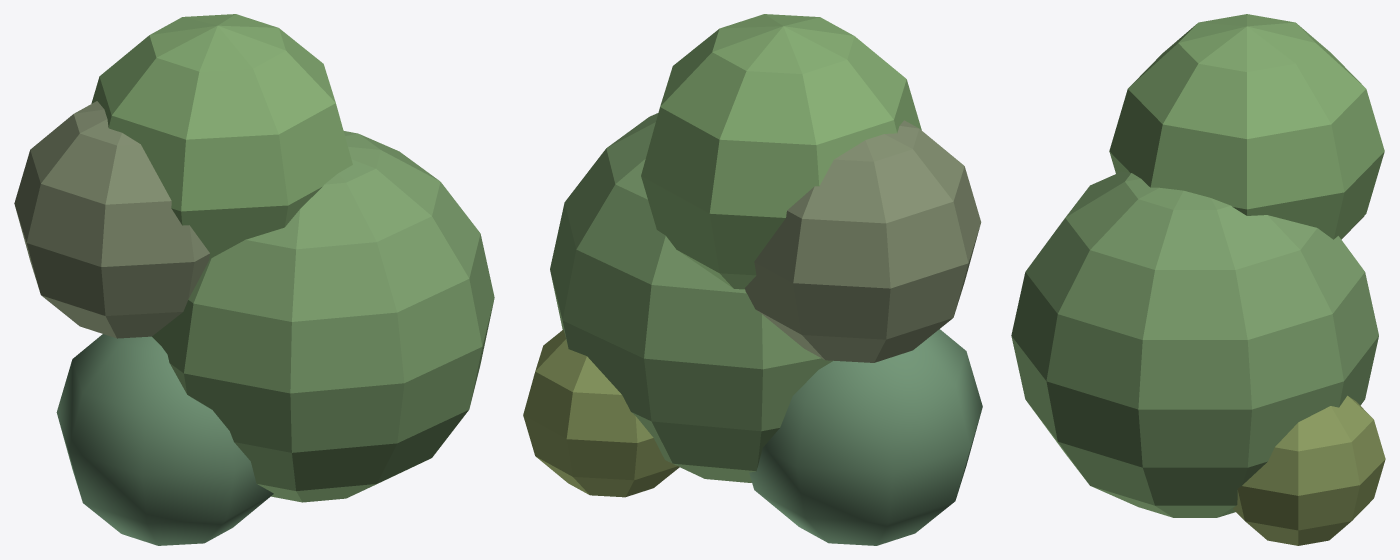
The model's file is bush_flowering_v1.glb.
The picture shows the model from 3 angles, left to right: view 1: azimuth 30°, elevation 25°; view 2: azimuth 150°, elevation 25°; view 3: azimuth 270°, elevation 25°; orthographic projection. The views are drawn at different scales.
Parts seen in each view (by area): view 1: bush_center, Sphere.001, Sphere, Sphere.003; view 2: bush_center, Sphere.001, Sphere, Sphere.003, Sphere.002; view 3: bush_center, Sphere.001, Sphere.002.
Boxes of the visible parts, <box> form: bush_center: <box>152,131,494,502</box>; Sphere.001: <box>91,14,352,260</box>; Sphere: <box>14,101,209,338</box>; Sphere.003: <box>56,334,273,545</box>; bush_center: <box>550,113,833,482</box>; Sphere.001: <box>641,14,921,289</box>; Sphere: <box>745,120,981,362</box>; Sphere.003: <box>749,329,982,545</box>; Sphere.002: <box>523,329,679,497</box>; bush_center: <box>1011,171,1378,517</box>; Sphere.001: <box>1109,14,1384,239</box>; Sphere.002: <box>1233,395,1385,545</box>.
Size of the model in its own units: 1.49 by 1.7 by 1.22.
